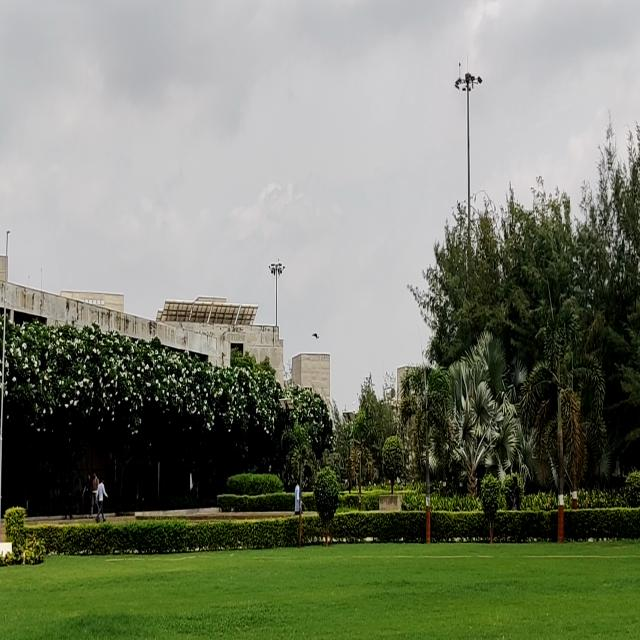drone: (310, 324, 320, 350)
